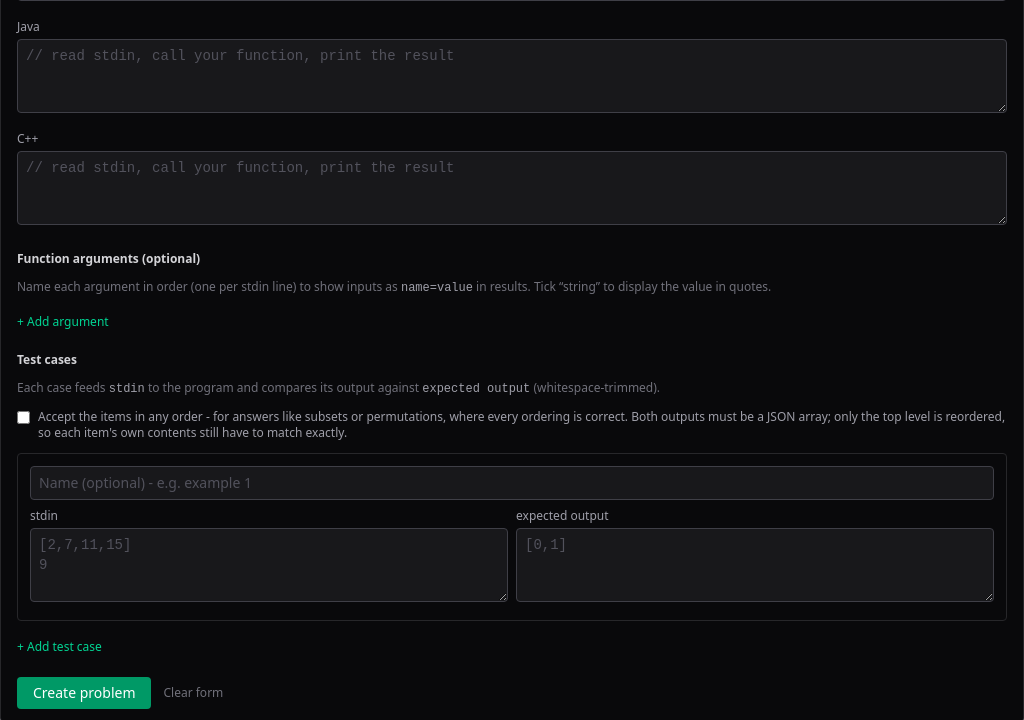
Scenario: field labelling › keeps the labels distinct when a second test case is added
(page scrolled)
Click the button "+ Add test case". click: (59, 647)
box: 17,639 -> 102,655
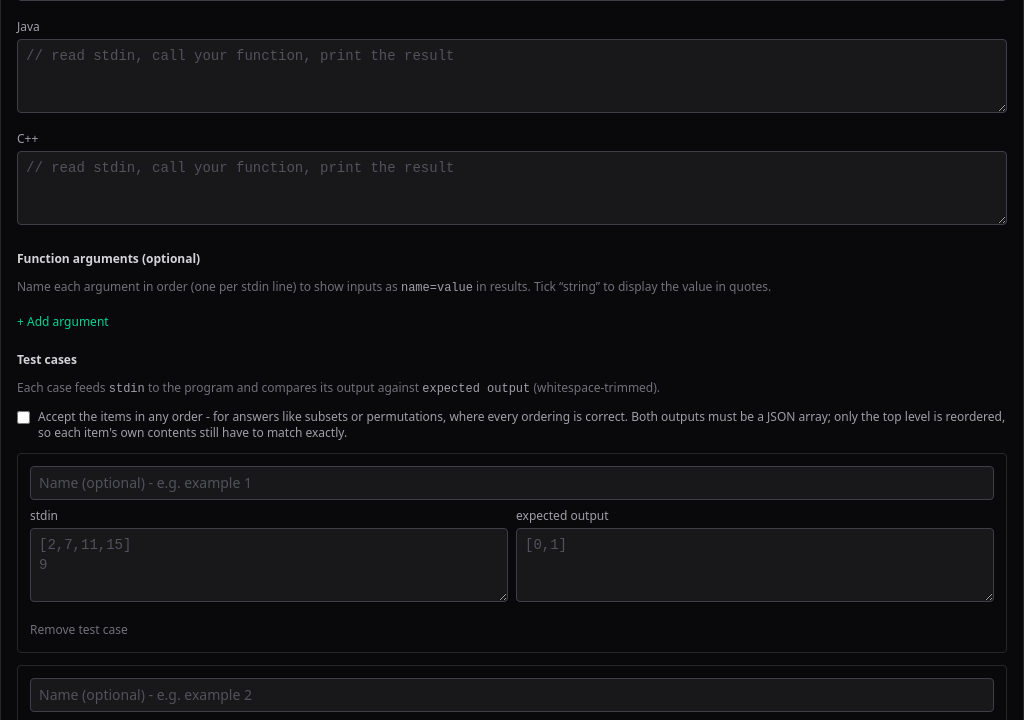
Result: the number of text boxes labelled "stdin" is 2
Result: the number of text boxes labelled "expected output" is 2
